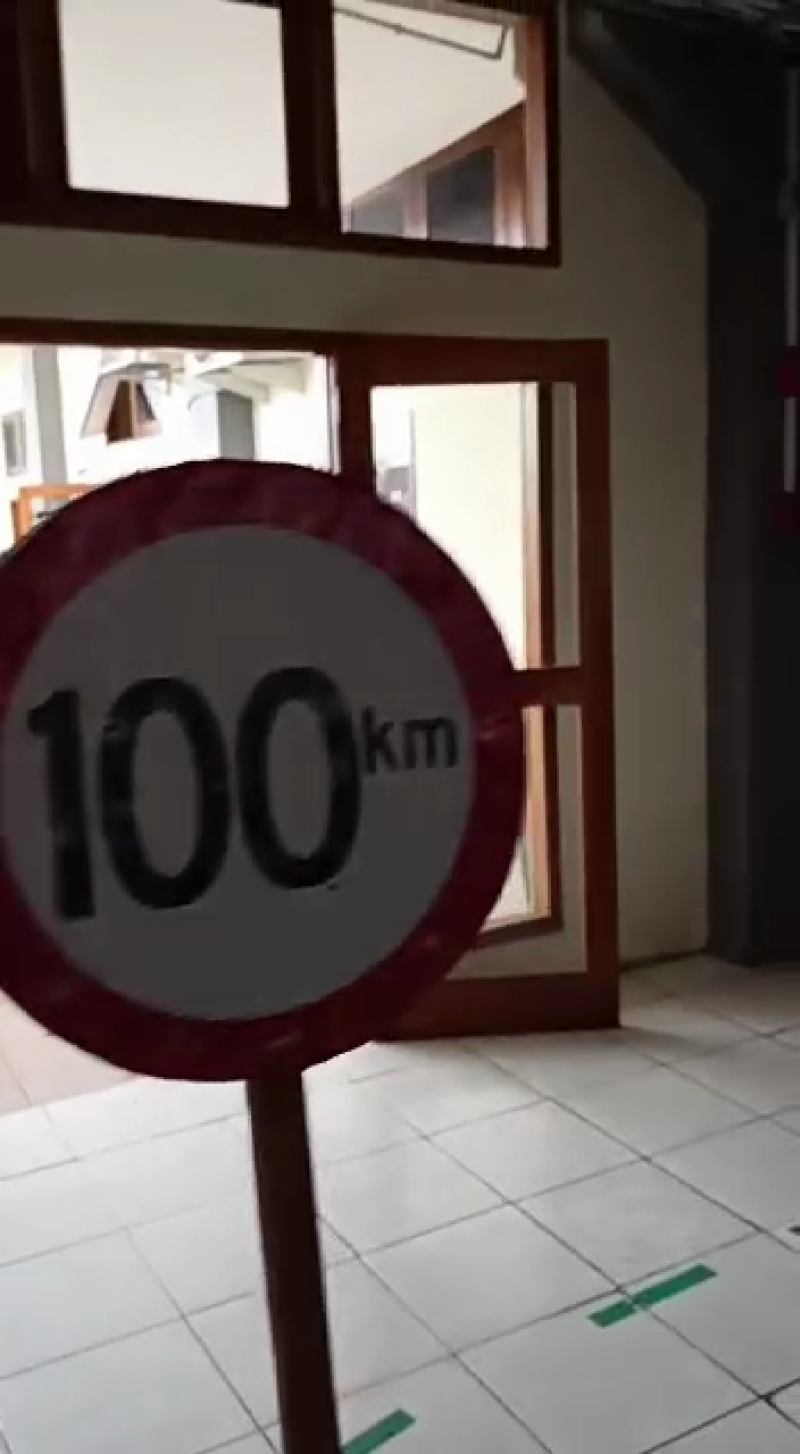batas maksimal 100kmperjam: (1, 440, 537, 1100)
